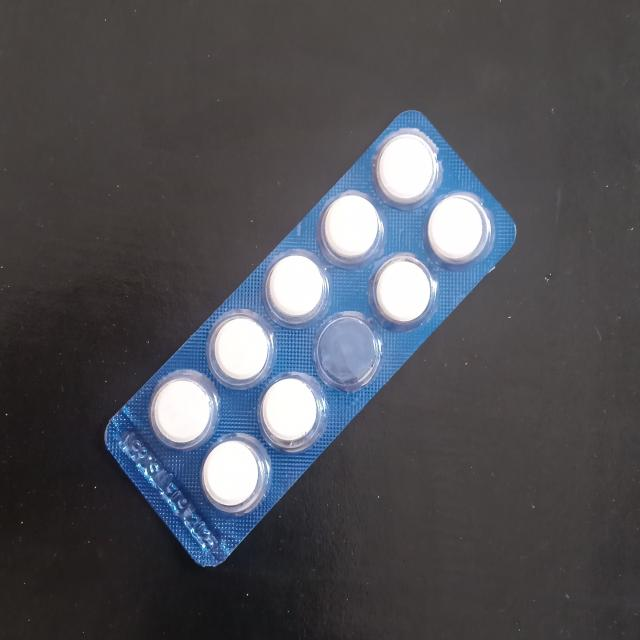defect: (314, 314, 382, 392)
